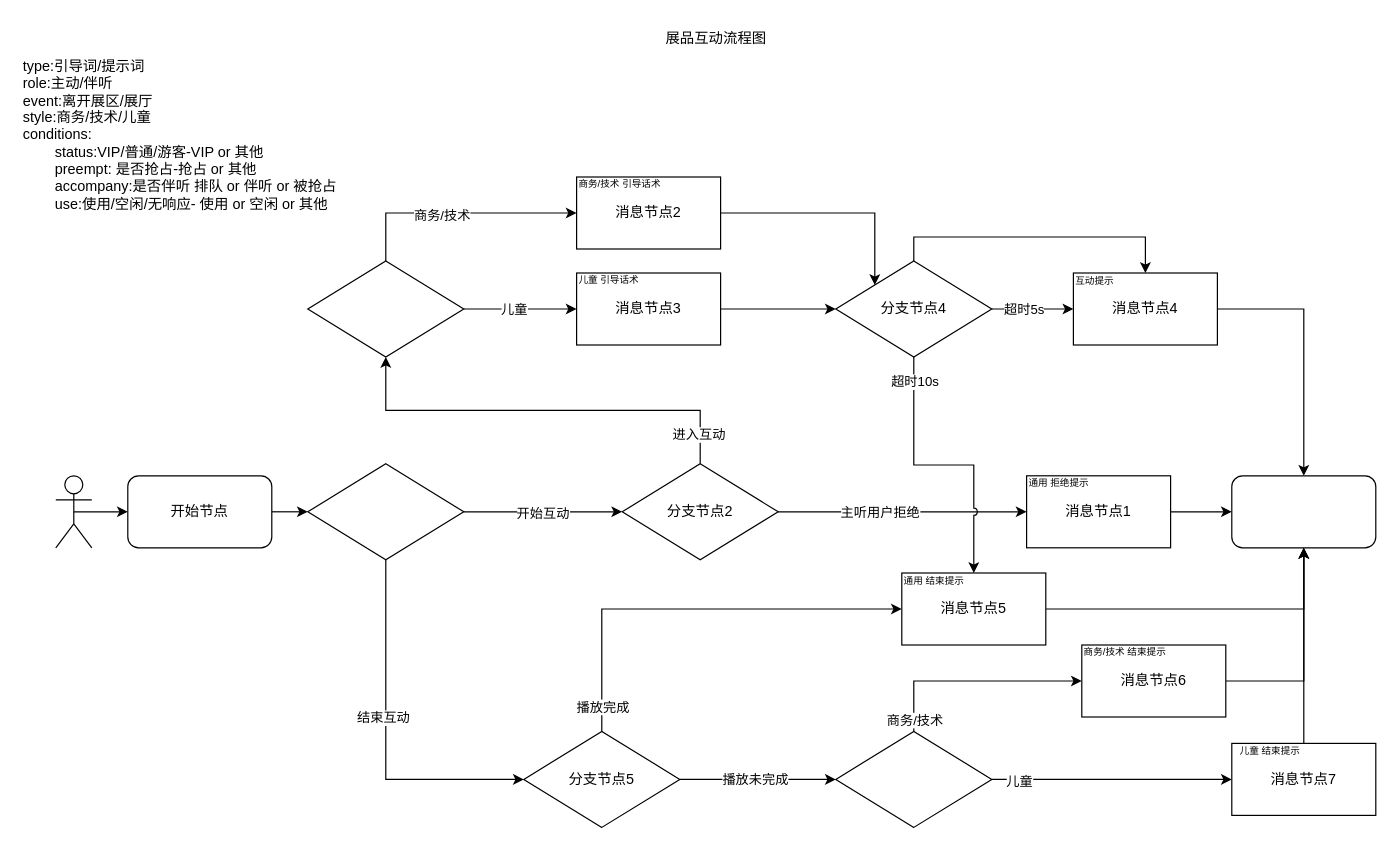
The diagram is 1397 pixels wide and 848 high, and some of its shapes have lost their labels. The centre of each missing label's shape, as x and y in pixels:
"Actor" belongs at pixel 73 511.
"分支节点1" belongs at pixel 385 511.
"分支节点3" belongs at pixel 385 308.
"分支节点6" belongs at pixel 913 778.
"结束节点" belongs at pixel 1303 511.
